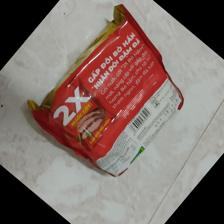3mien: (26, 3, 185, 178)
